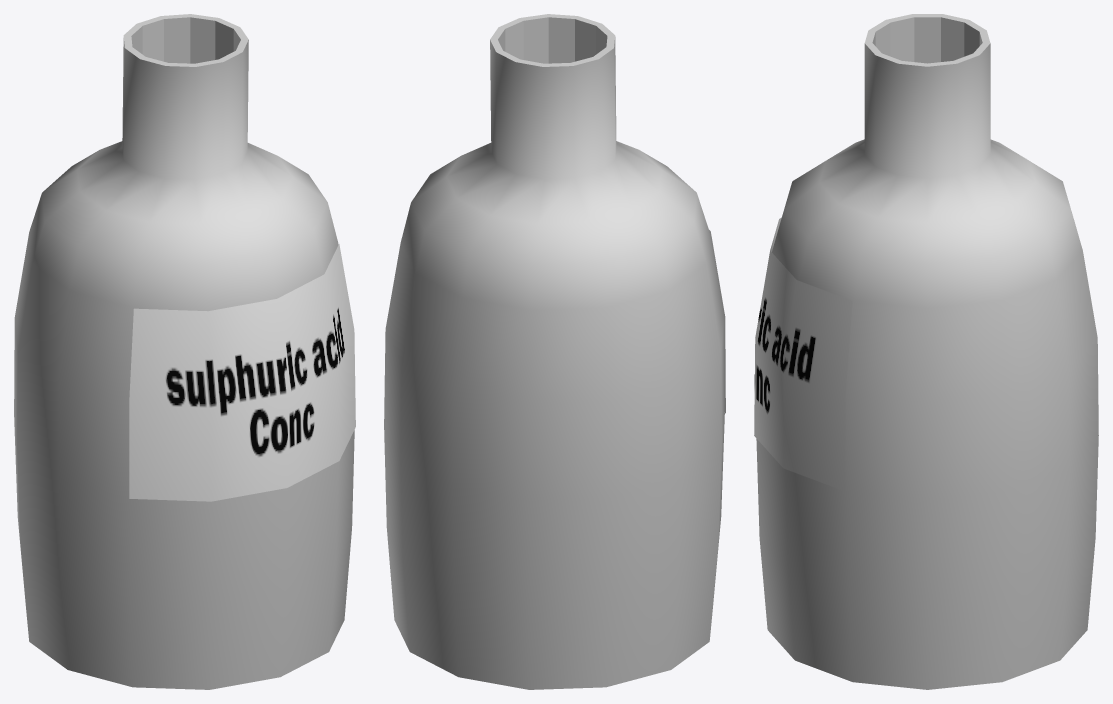
The model's file is suphuric acid.fbx.
3 views of the same model, side by side, from view 1: azimuth 30°, elevation 25°; view 2: azimuth 150°, elevation 25°; view 3: azimuth 270°, elevation 25° (orthographic).
Visible parts, largest first — view 1: sulphuric__bottle, suphuric_text; view 2: sulphuric__bottle; view 3: sulphuric__bottle, suphuric_text.
Part boxes in pixels (x1=…): sulphuric__bottle: x1=14, y1=14, x2=354, y2=689; suphuric_text: x1=129, y1=244, x2=355, y2=501; sulphuric__bottle: x1=384, y1=14, x2=724, y2=689; sulphuric__bottle: x1=756, y1=14, x2=1098, y2=689; suphuric_text: x1=754, y1=217, x2=852, y2=491.
Size of the model in its own units: 8.33 by 15.75 by 8.44.
Materials: 2 (1 with a texture image).
